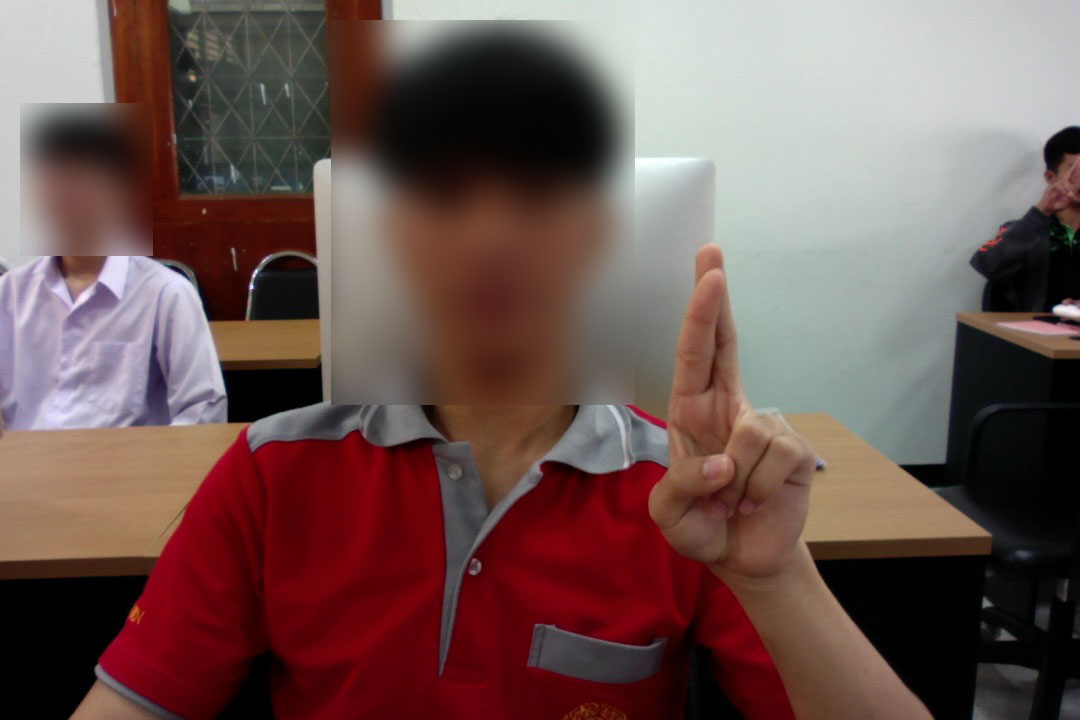rao: (630, 237, 824, 584)
